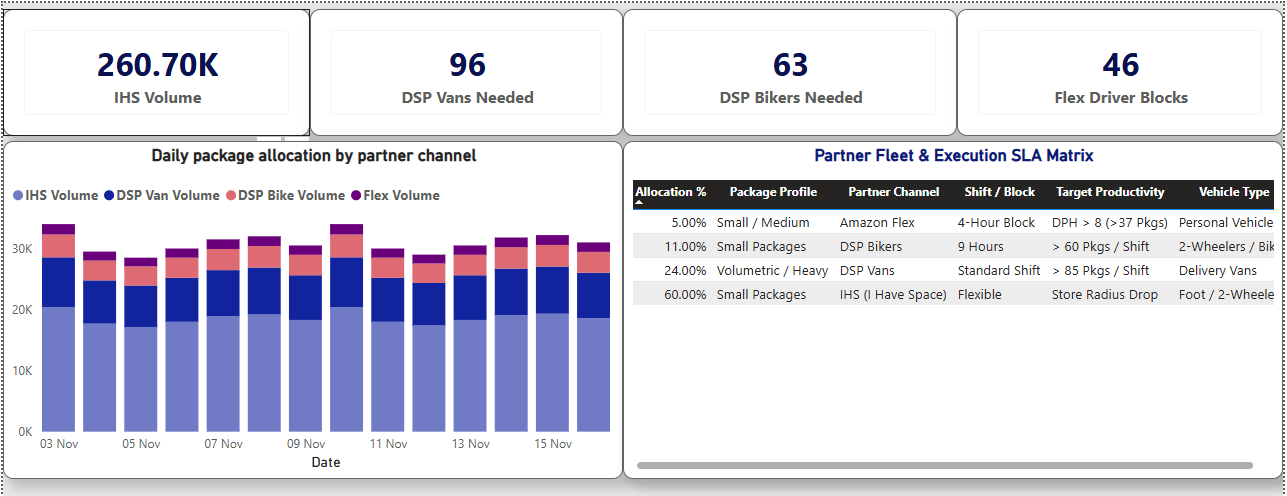

The page's visual inventory and layout, read from the dashboard file:
{"tool":"powerbi","page":{"name":"Resource  & Fleet Operations","canvas":[1280,720],"ordinal":2},"visuals":[{"type":"cardVisual","fields":{"Data":["_Measure.IHS Volume"]},"box":[0,6.1,306.6,127],"z":0},{"type":"cardVisual","fields":{"Data":["_Measure.DSP Vans Needed"]},"box":[306.6,6.1,313.6,127],"z":1},{"type":"cardVisual","fields":{"Data":["_Measure.DSP Bikers Needed"]},"box":[620.1,6.1,333.7,127],"z":2},{"type":"cardVisual","fields":{"Data":["_Measure.Flex Driver Blocks"]},"box":[953.9,6.1,325.8,127],"z":3},{"type":"columnChart","title":"Daily package allocation by partner channel","fields":{"Category":["Capacity Planning.Date"],"Y":["_Measure.IHS Volume","_Measure.DSP Van Volume","_Measure.DSP Bike Volume","_Measure.Flex Volume"]},"box":[0,138,620,338],"z":4},{"type":"tableEx","title":"Partner Fleet & Execution SLA Matrix","fields":{"Values":["Sum(Partner Execution SLA.Allocation %)","Partner Execution SLA.Package Profile","Partner Execution SLA.Partner Channel","Partner Execution SLA.Shift / Block","Partner Execution SLA.Target Productivity","Partner Execution SLA.Vehicle Type"]},"box":[620,138,660,338],"z":5}]}

Visuals, with their boxes on the page's 1280x720 design canvas (x1, y1, x2, y2). These are canvas units, not pixel positions in the 1287x496 screenshot, which may show the page scaled, cropped or inside an application window:
cardVisual - _Measure.IHS Volume: (0,6,307,133)
cardVisual - _Measure.DSP Vans Needed: (307,6,620,133)
cardVisual - _Measure.DSP Bikers Needed: (620,6,954,133)
cardVisual - _Measure.Flex Driver Blocks: (954,6,1280,133)
"Daily package allocation by partner channel" columnChart: (0,138,620,476)
"Partner Fleet & Execution SLA Matrix" tableEx: (620,138,1280,476)
